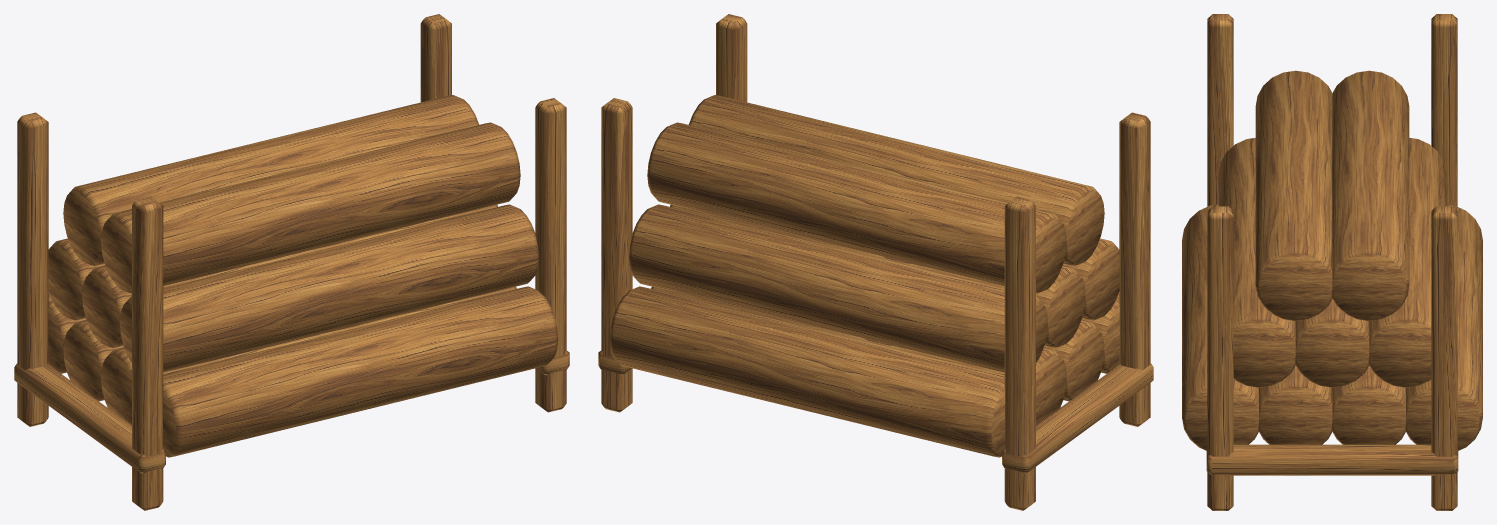
The model's file is 21_Lenero.obj.
3 views of the same model, side by side, from view 1: azimuth 30°, elevation 25°; view 2: azimuth 150°, elevation 25°; view 3: azimuth 270°, elevation 25° (orthographic). The views are drawn at different scales.
Visible parts, largest first — view 1: 21_Lenero_Wood; view 2: 21_Lenero_Wood; view 3: 21_Lenero_Wood.
Boxes of the visible parts, x1,y1,x2,y2 form: 21_Lenero_Wood: (14,14,569,510); 21_Lenero_Wood: (598,14,1153,510); 21_Lenero_Wood: (1182,14,1482,510).
Bounding box in the file's own units: 1.39 × 0.94 × 0.86.
Materials: 1 (1 with a texture image).
